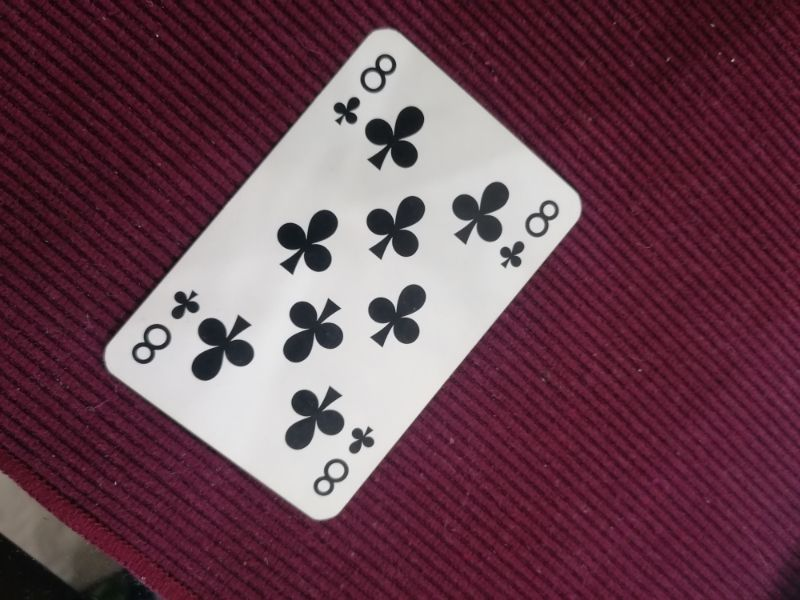8c: (128, 287, 204, 372), (330, 49, 399, 131), (495, 197, 565, 276), (311, 424, 377, 503)
